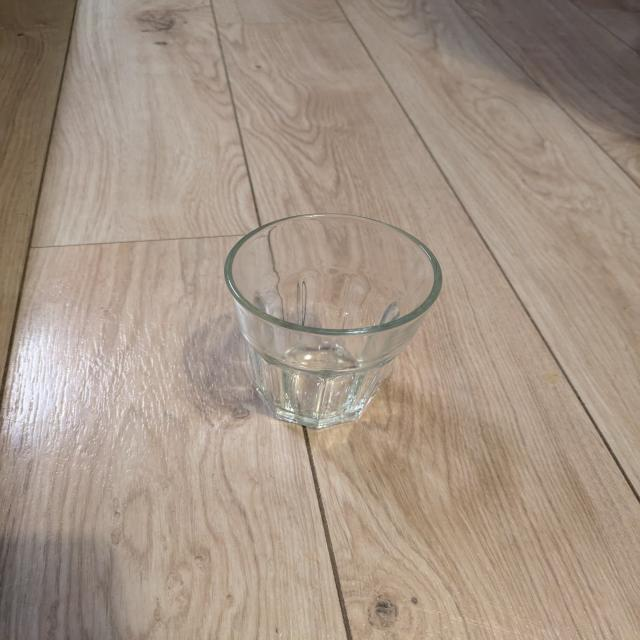ok g1: (222, 210, 444, 430)
